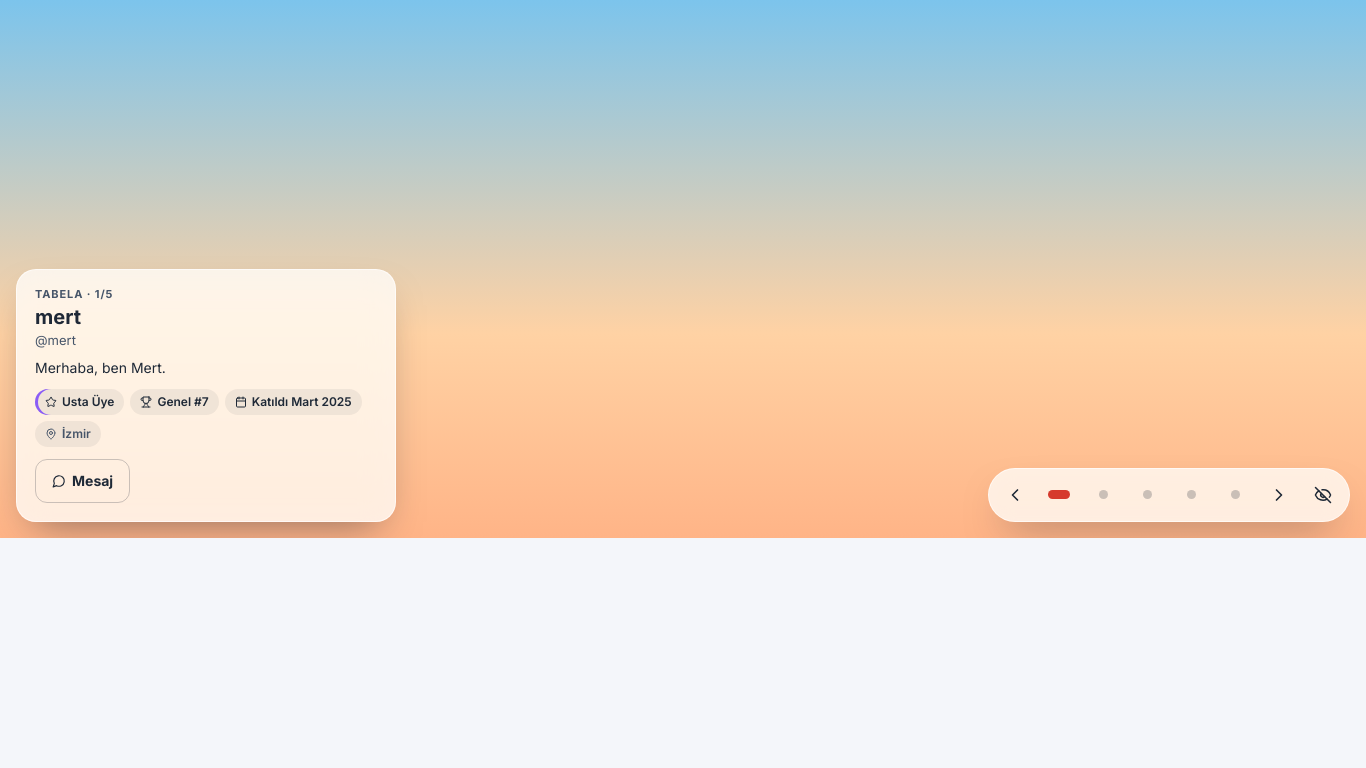
Test case: ProfileIslandHero — kartlarda gerçek veri › Sorular boş: "Henüz hiç soru sormamış."
Click the button named "Sonraki durak" at (1279, 495), box [1257, 473, 1301, 517]
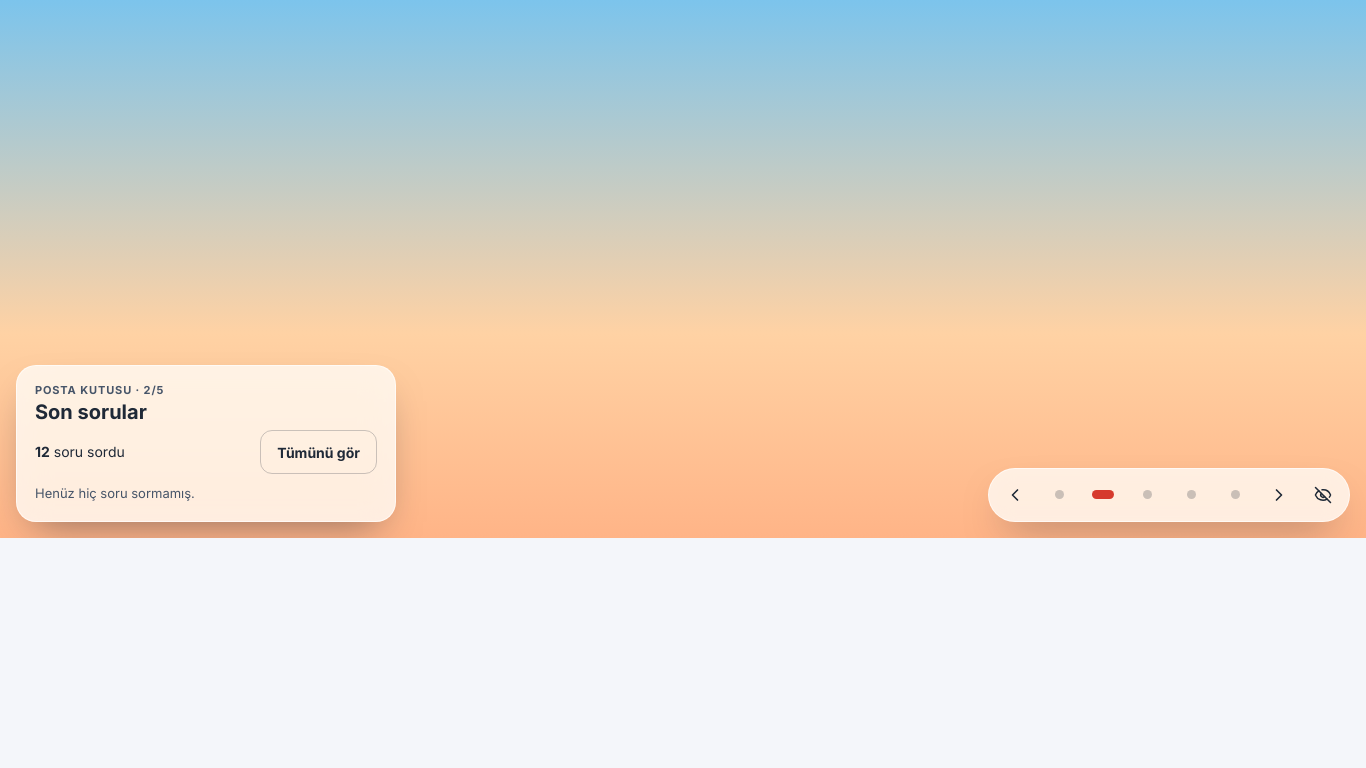
Expected: the text "Henüz hiç soru sormamış." is shown, [35, 485, 195, 501]
